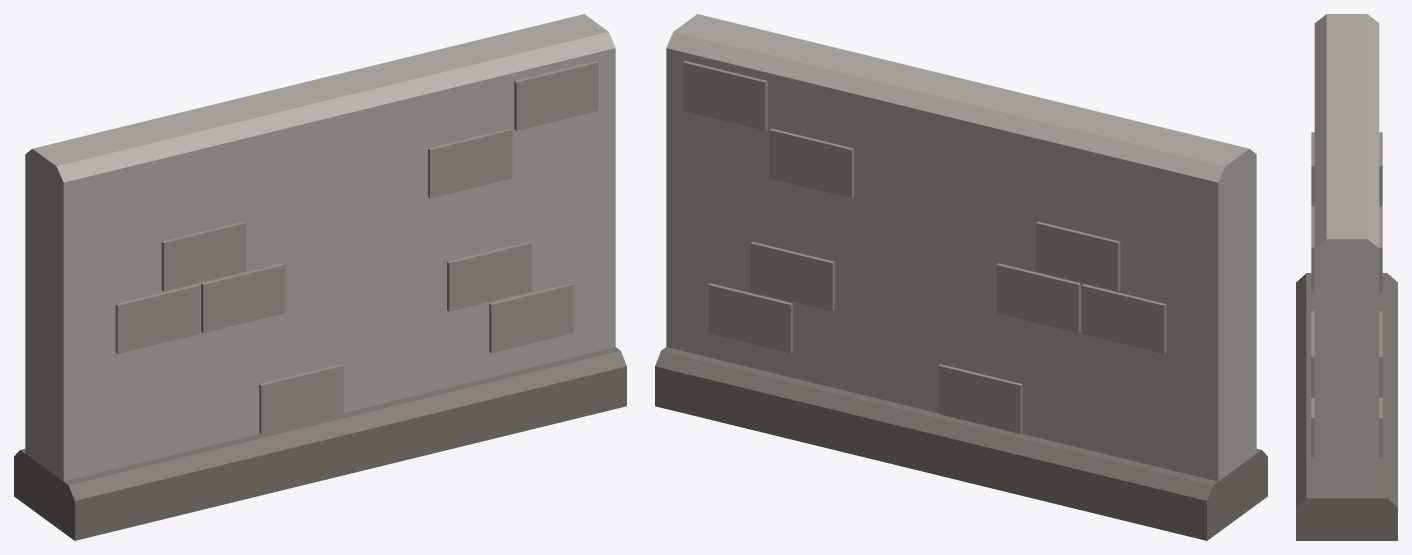
File: Wall 01.FBX
The picture shows the model from 3 angles, left to right: view 1: azimuth 30°, elevation 25°; view 2: azimuth 150°, elevation 25°; view 3: azimuth 270°, elevation 25°; orthographic projection. The views are drawn at different scales.
Parts seen in each view (by area): view 1: Wall 01; view 2: Wall 01; view 3: Wall 01.
Boxes of the visible parts, x1,y1,x2,y2 form: Wall 01: (14, 14, 626, 540); Wall 01: (655, 14, 1267, 540); Wall 01: (1296, 14, 1397, 540).
Bounding box in the file's own units: 400 × 250 × 76.34.
Materials: 1 (1 with a texture image).
